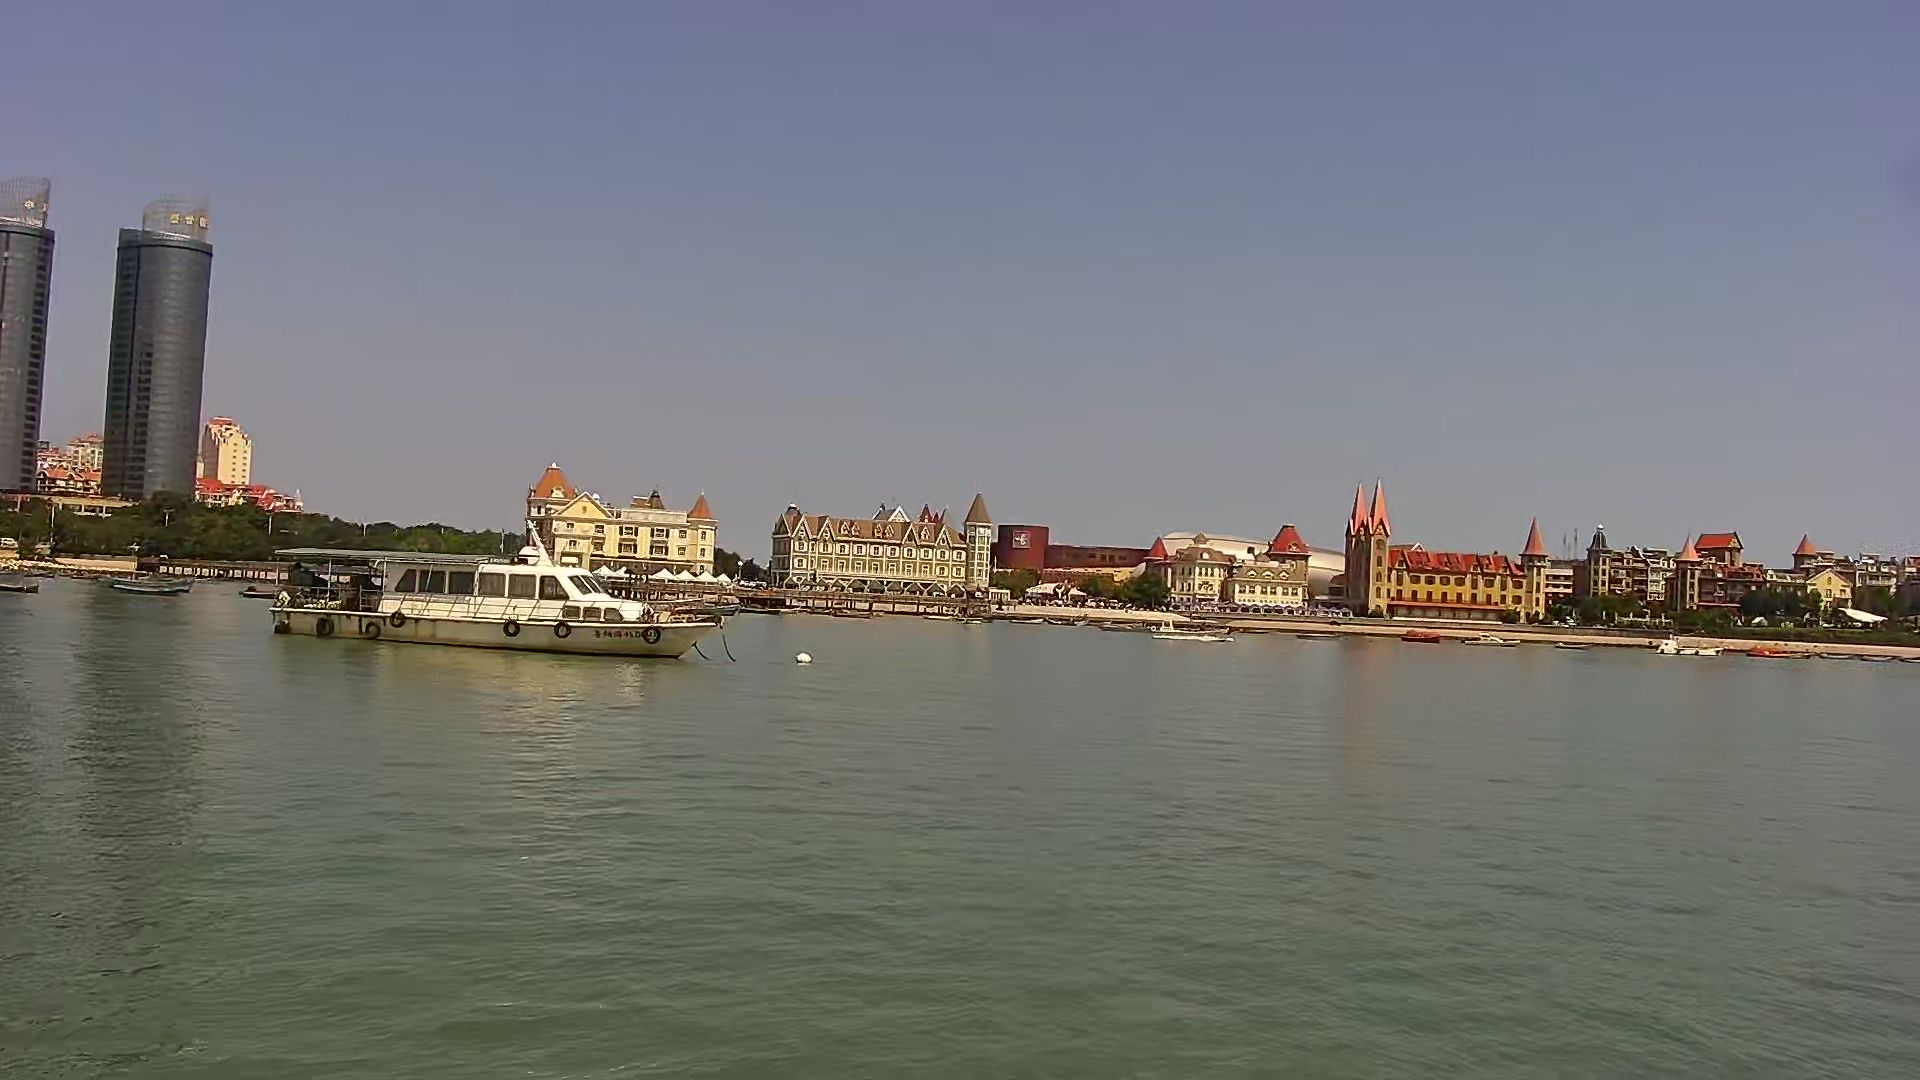ball: (795, 646, 818, 665)
boat: (103, 572, 204, 597)
ship: (266, 534, 727, 654)
